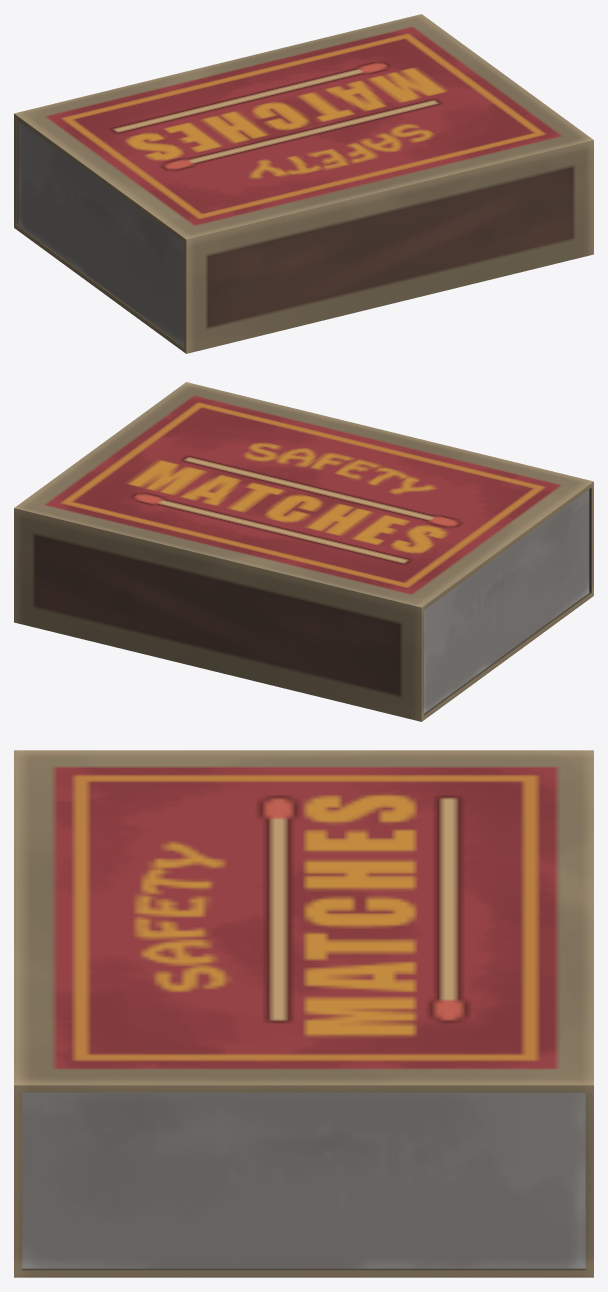
Rendered from ITEM_matchbox_A.FBX.
3 views of the same model, one above another, from view 1: azimuth 30°, elevation 25°; view 2: azimuth 150°, elevation 25°; view 3: azimuth 270°, elevation 25° (orthographic). The views are drawn at different scales.
Parts seen in each view (by area): view 1: ITEM_matchbox_A_box, ITEM_matchbox_A; view 2: ITEM_matchbox_A_box, ITEM_matchbox_A; view 3: ITEM_matchbox_A_box, ITEM_matchbox_A.
Boxes of the visible parts, box(x1,y1,x2,y2) form: ITEM_matchbox_A_box: box(14, 14, 593, 353); ITEM_matchbox_A: box(18, 121, 183, 345); ITEM_matchbox_A_box: box(14, 382, 593, 721); ITEM_matchbox_A: box(424, 489, 589, 713); ITEM_matchbox_A_box: box(14, 750, 593, 1277); ITEM_matchbox_A: box(22, 1092, 585, 1268).
Size of the model in its own units: 4.85 by 1.3 by 3.55.
